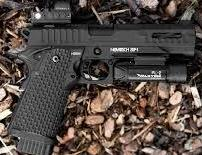gun: (1, 1, 202, 155)
